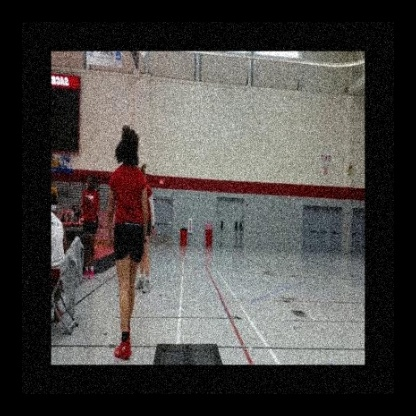lateral_flexion_left: (103, 122, 148, 361)
stance_width_narrow: (105, 164, 149, 360)
